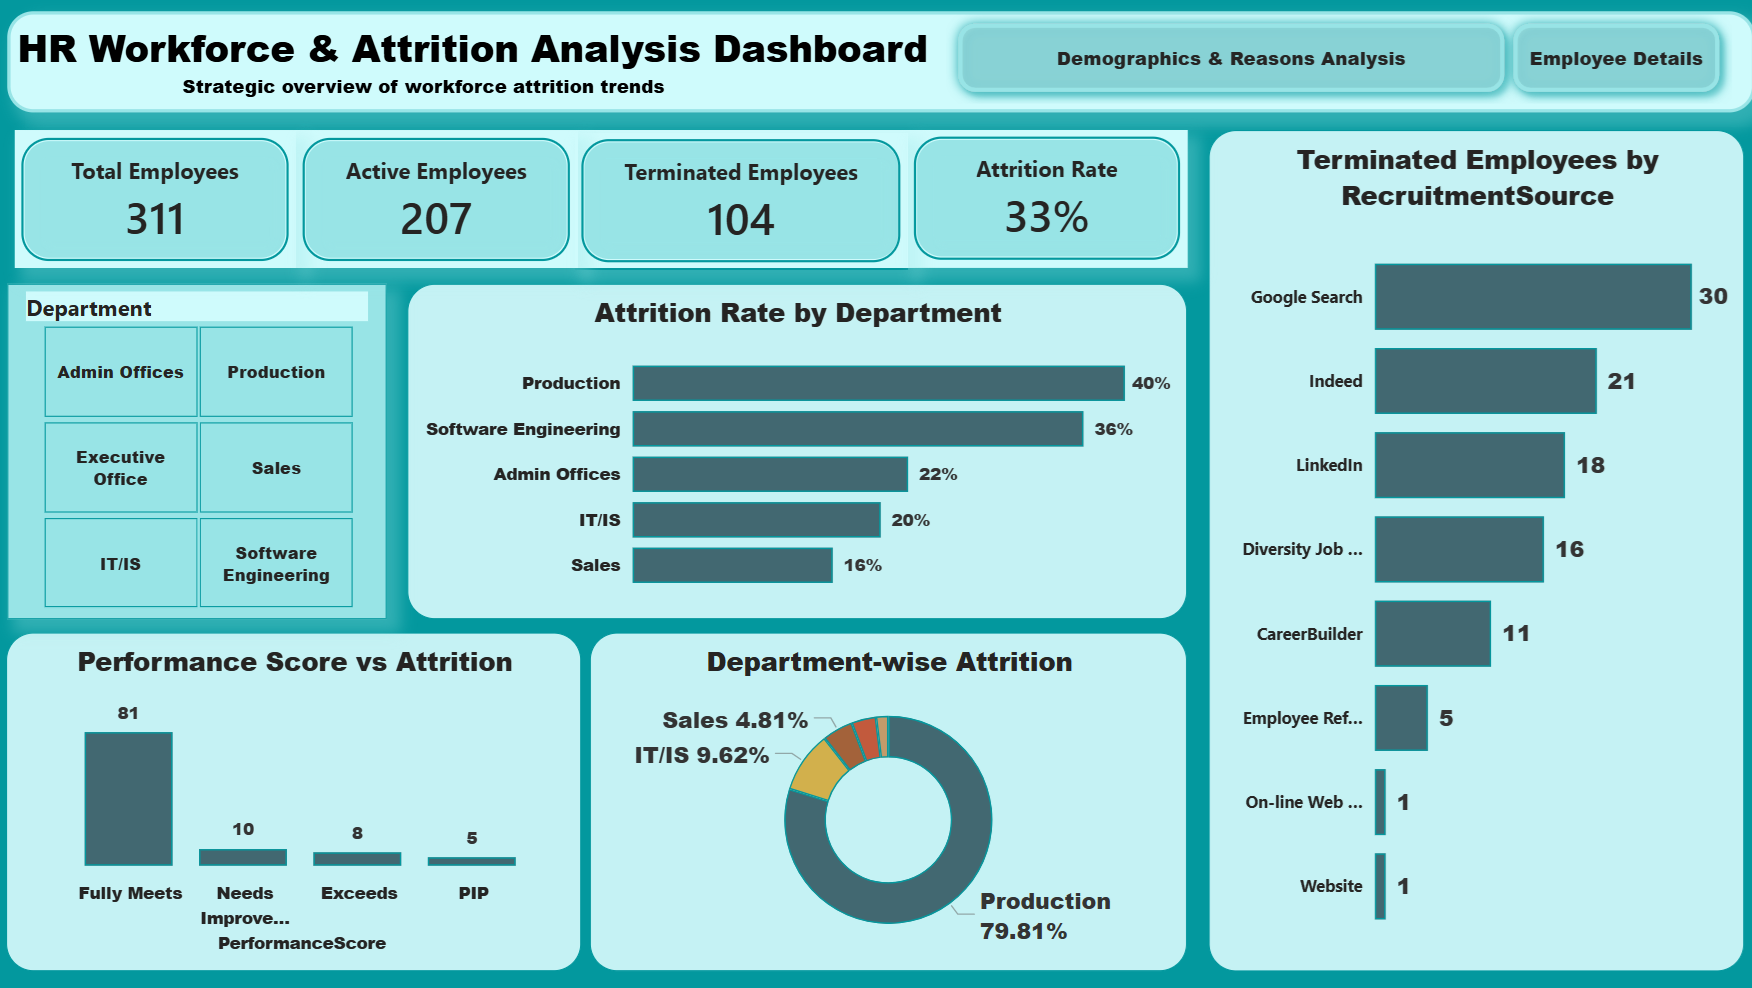

This screenshot's page, from the dashboard's own definition file:
{"tool":"powerbi","page":{"name":"Executive Overview ","canvas":[1280,720],"ordinal":0},"visuals":[{"type":"cardVisual","fields":{"Data":["HRDataset.Total Employees"]},"box":[13.3,95.1,204.5,99.1],"z":0,"group":"g1"},{"type":"textbox","box":[8.4,8.4,1271.6,73.6],"z":0},{"type":"cardVisual","fields":{"Data":["HRDataset.Active Employees"]},"box":[217.8,95.1,204.5,99.1],"z":1000,"group":"g1"},{"type":"columnChart","title":"Performance Score vs Attrition","fields":{"Category":["HRDataset.PerformanceScore"],"Y":["HRDataset.Terminated Employees"]},"box":[7.2,459.7,418.6,246.1],"z":1000},{"type":"cardVisual","fields":{"Data":["HRDataset.Terminated Employees"]},"box":[420.2,95.5,242.5,99.9],"z":2000,"group":"g1"},{"type":"actionButton","box":[691.3,8.4,415,67.6],"z":2000},{"type":"cardVisual","fields":{"Data":["HRDataset.Attrition Rate"]},"box":[662.7,94.1,203.5,99.9],"z":3000,"group":"g1"},{"type":"barChart","title":"Attrition Rate by Department","fields":{"Category":["HRDataset.Department"],"Y":["HRDataset.Attrition Rate"]},"box":[299.2,206.3,567,243.7],"z":3000},{"type":"actionButton","box":[1094.2,8.4,167.7,67.6],"z":4000},{"type":"slicer","fields":{"Values":["HRDataset.Department"]},"box":[8.4,206.3,276.3,243.7],"z":5000},{"type":"donutChart","title":"Department-wise Attrition","fields":{"Category":["HRDataset.Department"],"Y":["HRDataset.Terminated Employees"]},"box":[431.9,459.7,434.3,246.1],"z":6000},{"type":"barChart","fields":{"Category":["HRDataset.RecruitmentSource"],"Y":["HRDataset.Terminated Employees"]},"box":[881.9,94.1,389.7,611.7],"z":7000},{"type":"group","id":"g1","title":"Group 1","box":[13.3,94.1,853,100.1],"z":8000}]}

Visuals, with their boxes in screenshot pixels (x1, y1, x2, y2), scaled from the page's 1280x720 canvas onto the 1752x988 screenshot:
cardVisual - HRDataset.Total Employees: {"left": 18, "top": 130, "right": 298, "bottom": 266}
textbox: {"left": 11, "top": 12, "right": 1751, "bottom": 113}
cardVisual - HRDataset.Active Employees: {"left": 298, "top": 130, "right": 578, "bottom": 266}
"Performance Score vs Attrition" columnChart: {"left": 10, "top": 631, "right": 583, "bottom": 969}
cardVisual - HRDataset.Terminated Employees: {"left": 575, "top": 131, "right": 907, "bottom": 268}
actionButton: {"left": 946, "top": 12, "right": 1514, "bottom": 104}
cardVisual - HRDataset.Attrition Rate: {"left": 907, "top": 129, "right": 1186, "bottom": 266}
"Attrition Rate by Department" barChart: {"left": 410, "top": 283, "right": 1186, "bottom": 618}
actionButton: {"left": 1498, "top": 12, "right": 1727, "bottom": 104}
slicer - HRDataset.Department: {"left": 11, "top": 283, "right": 390, "bottom": 618}
"Department-wise Attrition" donutChart: {"left": 591, "top": 631, "right": 1186, "bottom": 969}
barChart - HRDataset.RecruitmentSource x HRDataset.Terminated Employees: {"left": 1207, "top": 129, "right": 1741, "bottom": 969}
"Group 1" group: {"left": 18, "top": 129, "right": 1186, "bottom": 266}
